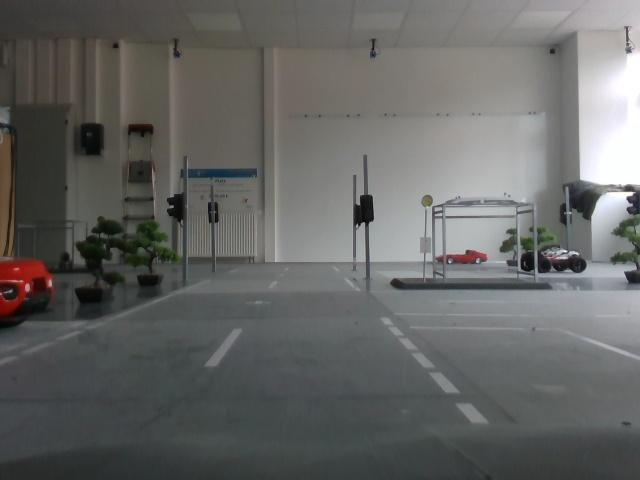car: (1, 249, 49, 324), (528, 244, 593, 277), (443, 249, 491, 266)
potted plant: (69, 229, 121, 316), (130, 220, 161, 290), (619, 217, 640, 298)
traffic light: (355, 188, 381, 230), (169, 197, 191, 234)
